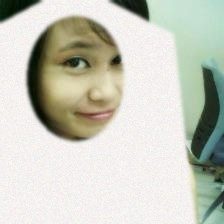Mukena: (0, 0, 188, 220)
